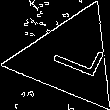L_NW: (37, 34, 101, 83)
